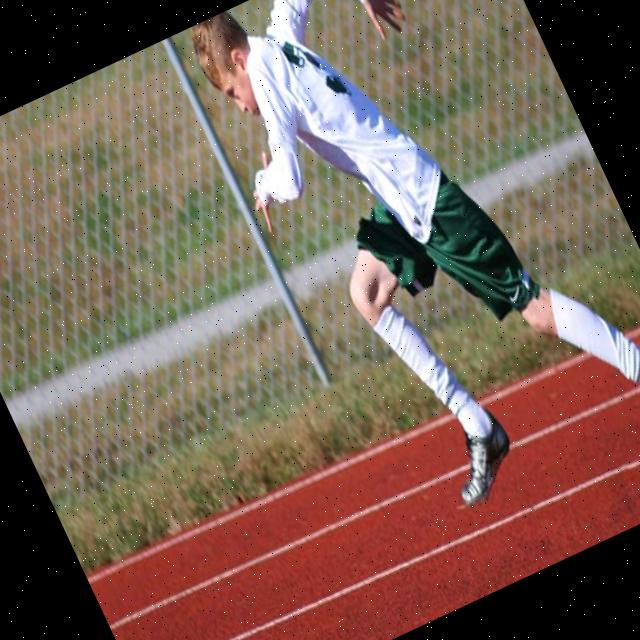Person: (175, 0, 640, 608)
